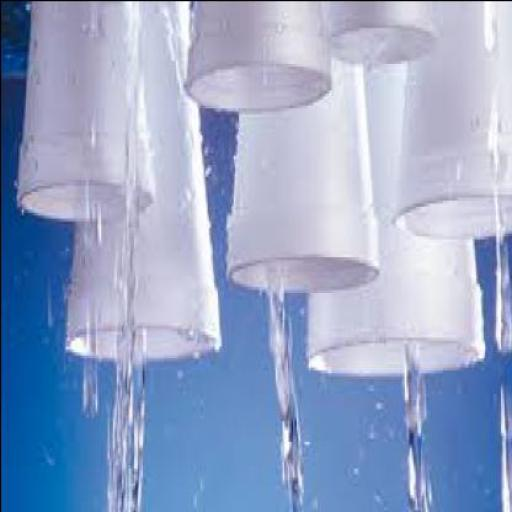paper: (309, 56, 486, 378), (66, 3, 222, 363), (229, 56, 381, 298), (18, 3, 156, 230), (395, 2, 511, 245), (187, 2, 332, 114), (329, 3, 437, 68)
